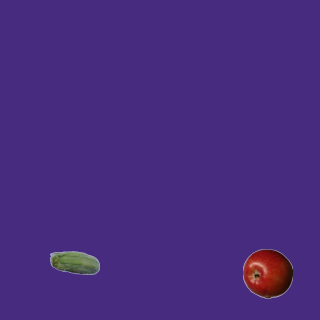Apple Braeburn: (242, 248, 292, 298)
Corn Husk: (49, 239, 99, 289)
